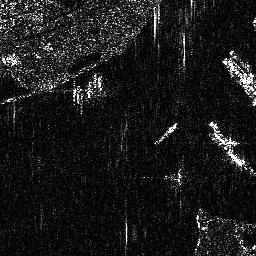ship: (207, 120, 245, 167), (221, 58, 256, 107), (152, 121, 179, 146)
